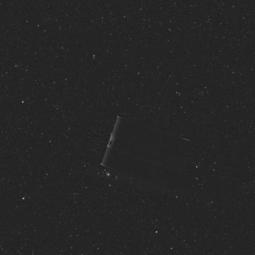double_start: (91, 103, 206, 201)
